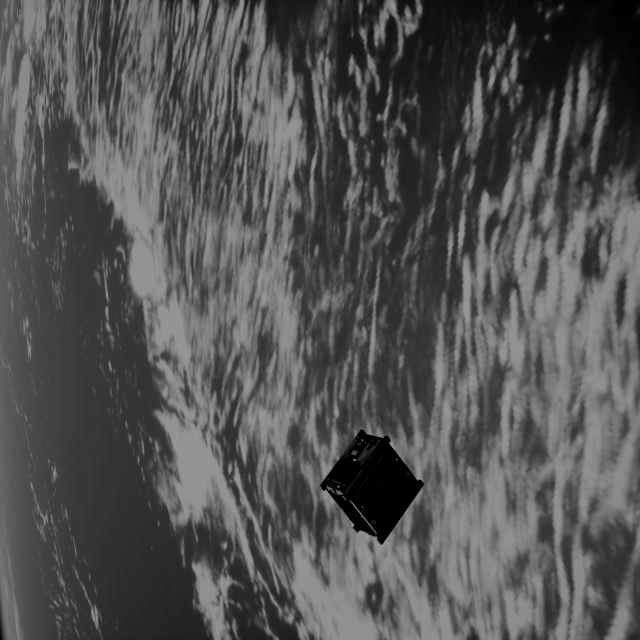medium_debris: (315, 430, 425, 545)
